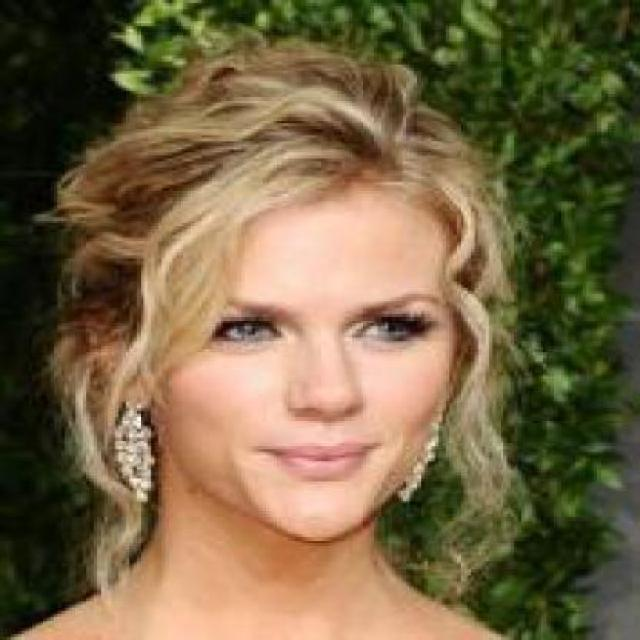closed-mouth: (263, 444, 377, 474)
